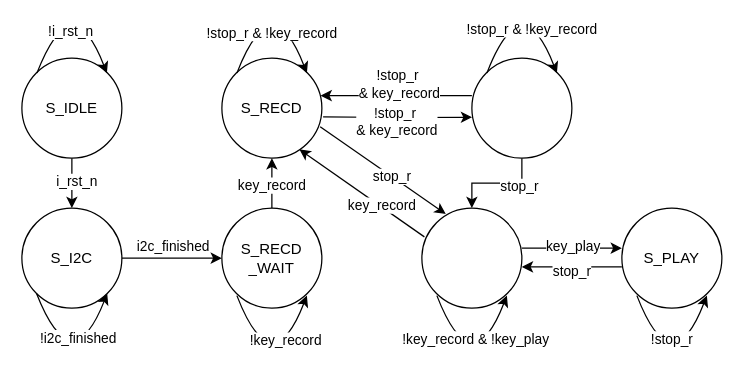
This 744x371 diagram has some shape labels left out. The shapes that lost their labels are listed below. From the top down, each one's box as (x1, y1, x2, y2) in pixels, then its label:
(471, 57, 572, 158): S_RECD _PAUSE
(421, 207, 522, 308): S_RECD _TAKEN
